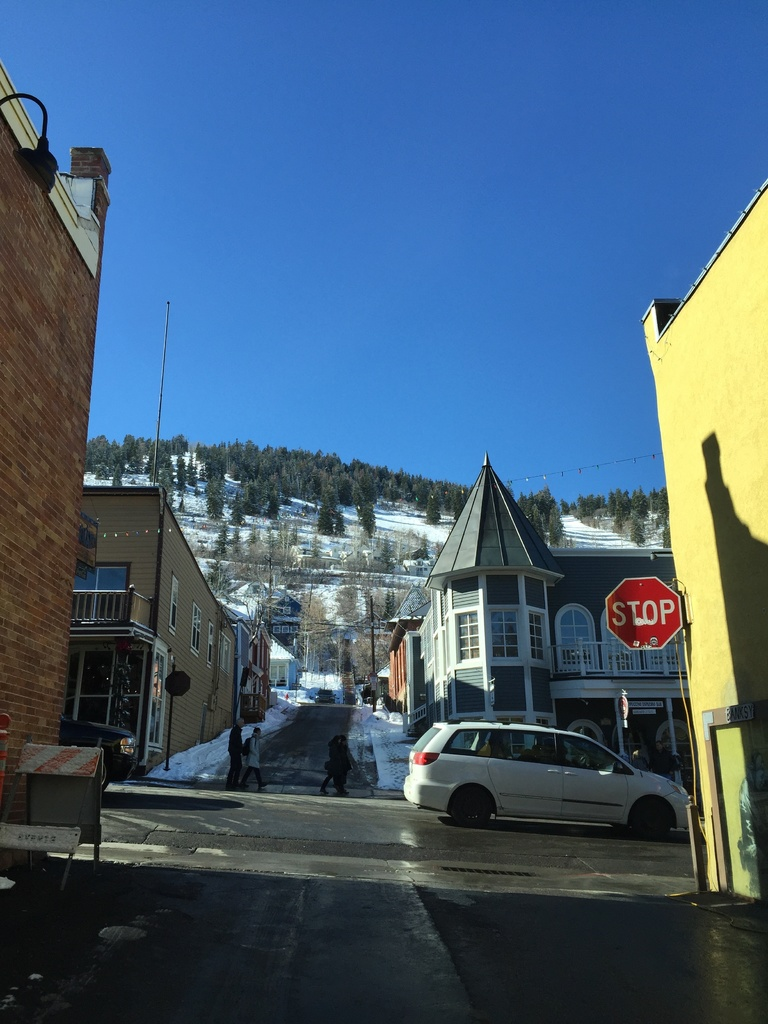mobil: (402, 719, 702, 844)
